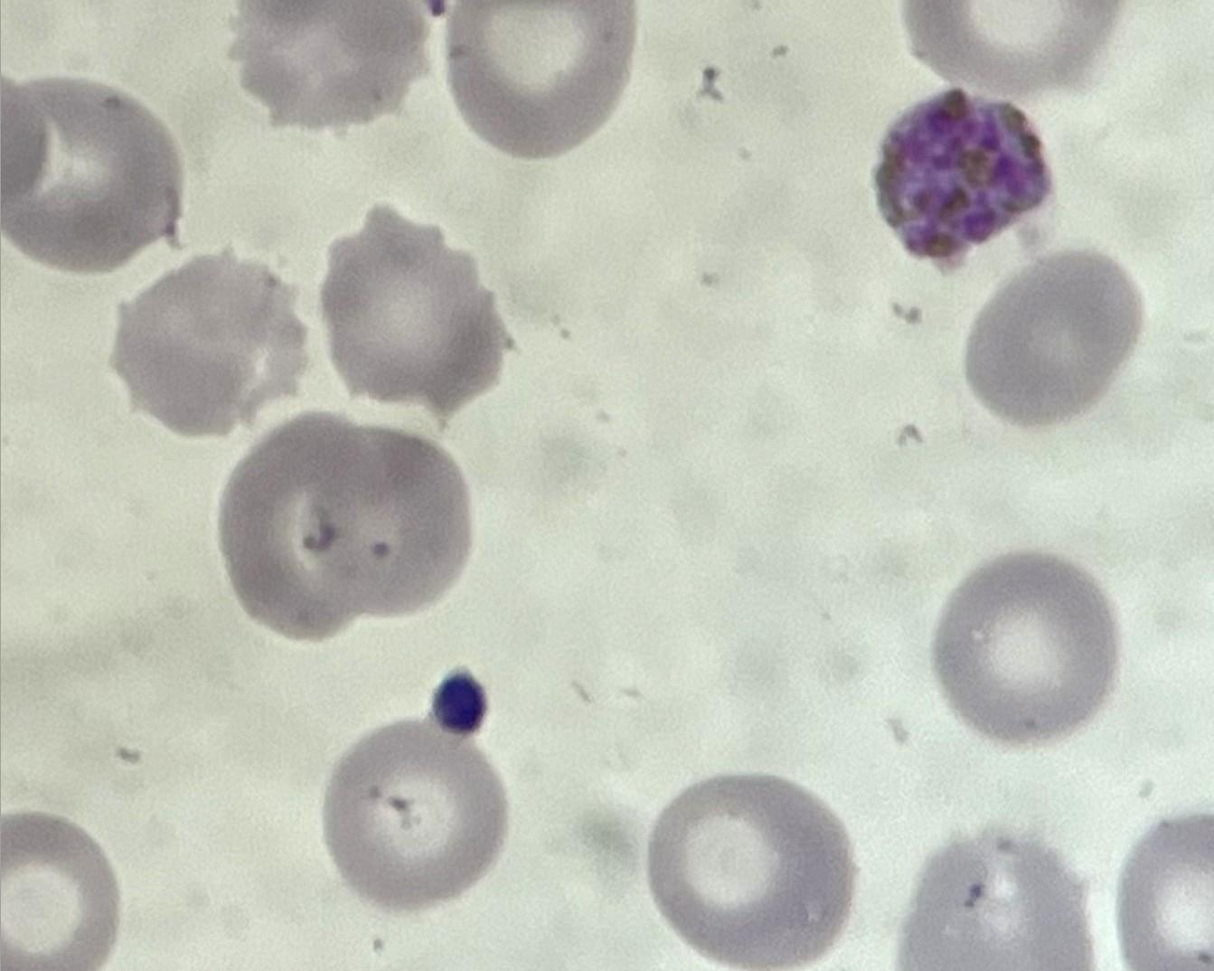Infected: (870, 89, 1046, 259)
Uninfected: (658, 769, 856, 971), (219, 414, 391, 638), (323, 204, 505, 410), (115, 256, 316, 437), (936, 550, 1122, 740), (7, 80, 188, 273), (328, 722, 513, 905), (965, 247, 1146, 424), (314, 437, 474, 614)
